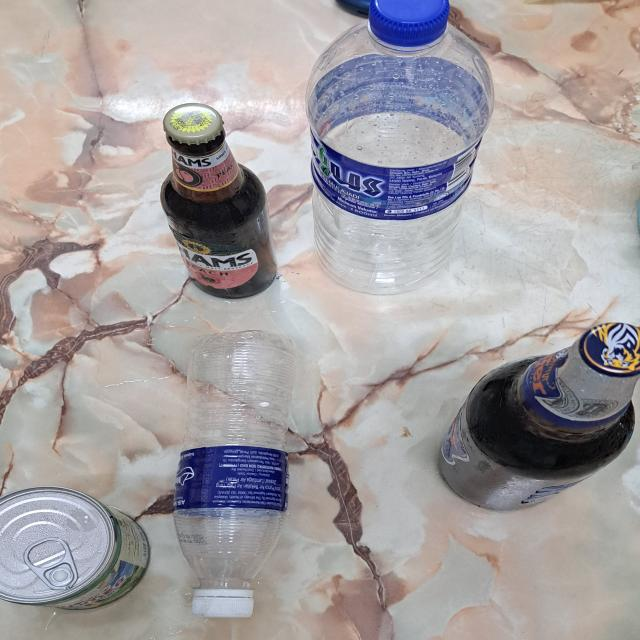can: (0, 483, 150, 610)
glass bottle: (443, 320, 640, 512), (159, 99, 279, 301)
plastic bottle: (309, 0, 497, 293), (176, 327, 295, 622)
plastic bottle cap: (370, 0, 448, 47), (190, 584, 256, 620)
pop tab: (24, 535, 80, 586)
